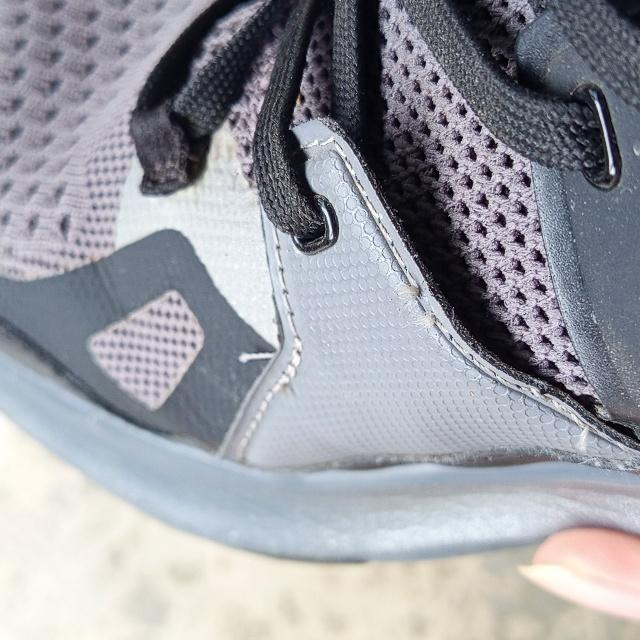broken: (392, 278, 442, 332)
